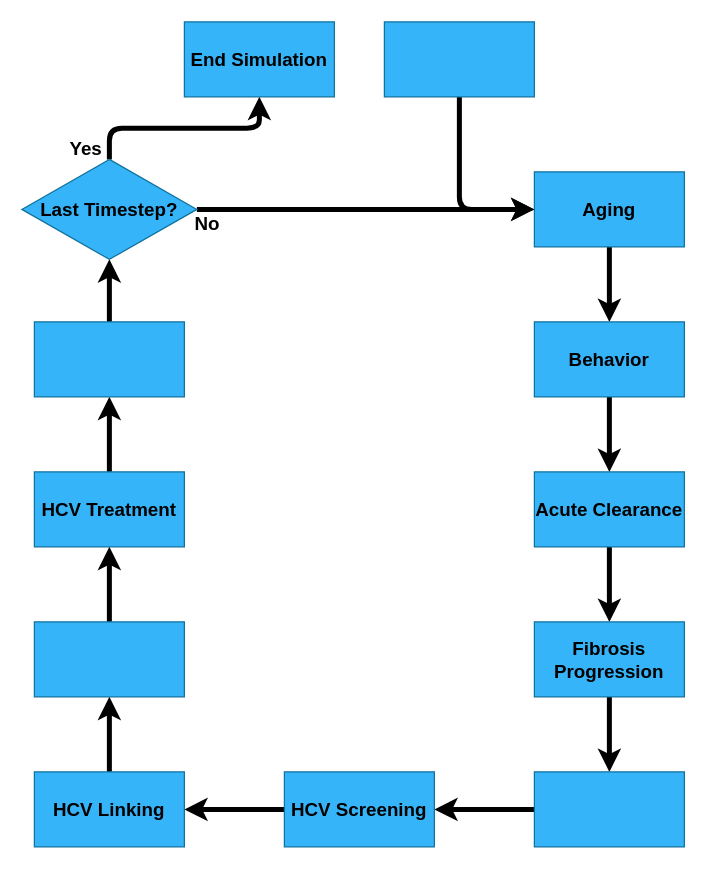
Image size: 706x869. Some labels were removed from this diagram. The box of each missing label's shape, as (x1, y1, x2, y2) in pixels:
Death: (33, 321, 184, 397)
Fibrosis Staging: (33, 621, 184, 697)
HCV Infection: (533, 771, 684, 847)
Start Simulation: (383, 21, 534, 97)
